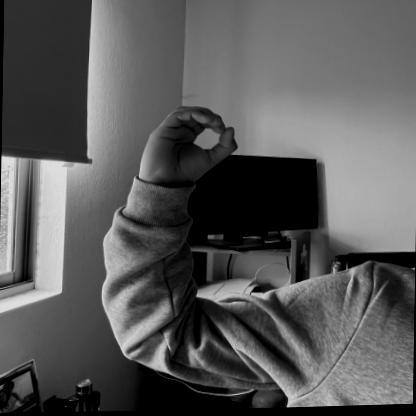O: (136, 99, 238, 192)
